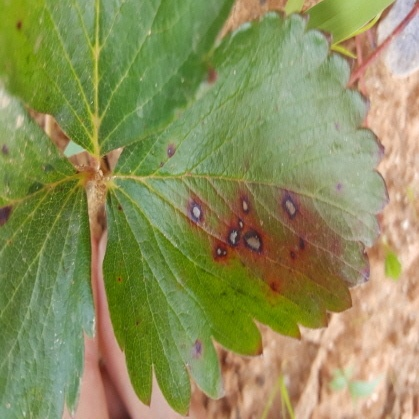Leaf_Spot: (103, 1, 392, 411), (0, 159, 236, 418), (0, 0, 96, 337)
